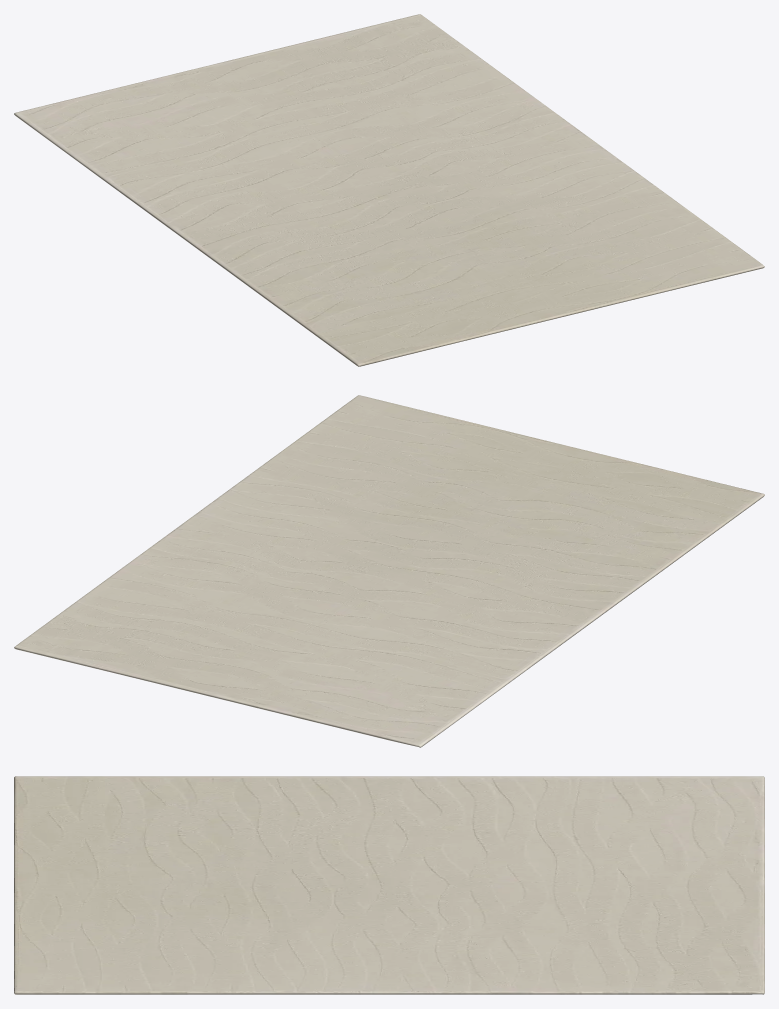
The model's file is 28 - VÄXELFEL Rug, low pile - off-white 133x195 cm.glb.
3 renders of one model, top to bottom at view 1: azimuth 30°, elevation 25°; view 2: azimuth 150°, elevation 25°; view 3: azimuth 270°, elevation 25°, orthographic. The views are drawn at different scales.
Parts seen in each view (by area): view 1: Rectangle005; view 2: Rectangle005; view 3: Rectangle005.
Part boxes in pixels (x1=…): Rectangle005: x1=14, y1=14, x2=764, y2=366; Rectangle005: x1=14, y1=395, x2=764, y2=747; Rectangle005: x1=14, y1=776, x2=764, y2=994.
Size of the model in its own units: 1.33 by 0.00762 by 1.95.
1 material, 1 textured.
